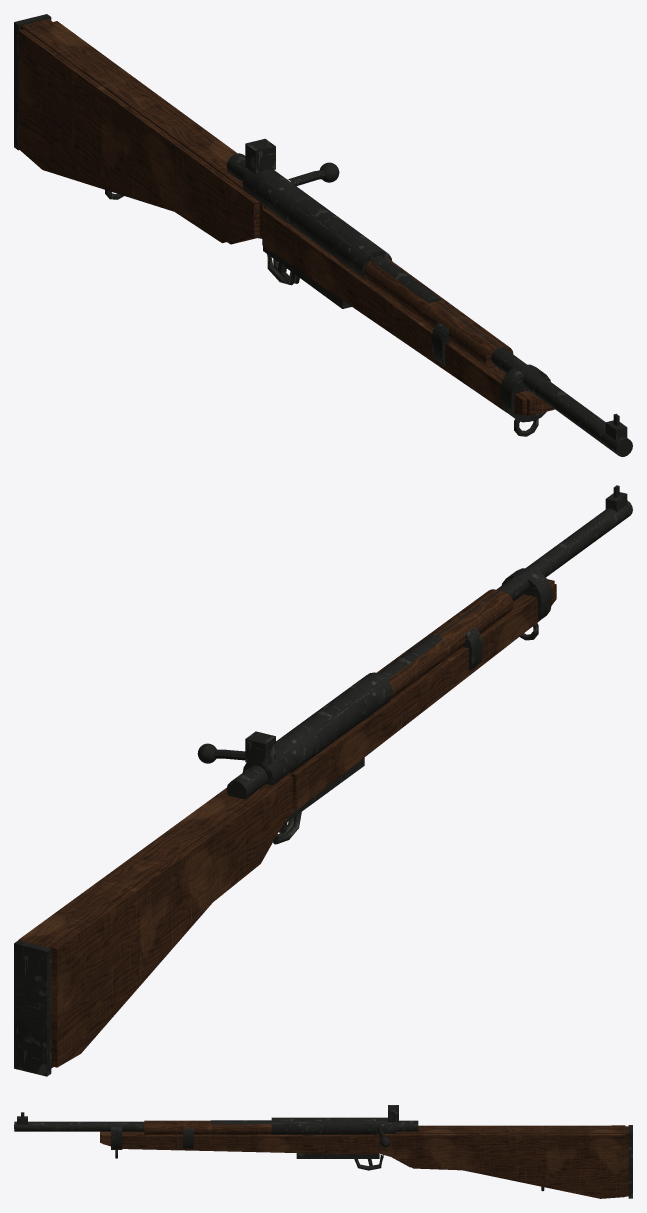
Rendered from springfield.glb.
The picture shows the model from 3 angles, top to bottom: view 1: azimuth 30°, elevation 25°; view 2: azimuth 150°, elevation 25°; view 3: azimuth 270°, elevation 25°; orthographic projection. The views are drawn at different scales.
Parts seen in each view (by area): view 1: M1903A3_Springfield; view 2: M1903A3_Springfield; view 3: M1903A3_Springfield.
Part boxes in pixels (x1,y1,x2,y2): M1903A3_Springfield: (14, 14, 632, 456); M1903A3_Springfield: (14, 485, 632, 1076); M1903A3_Springfield: (14, 1105, 632, 1198).
Size of the model in its own units: 0.0975 by 0.174 by 1.12.
Materials: 3 (2 with a texture image).
